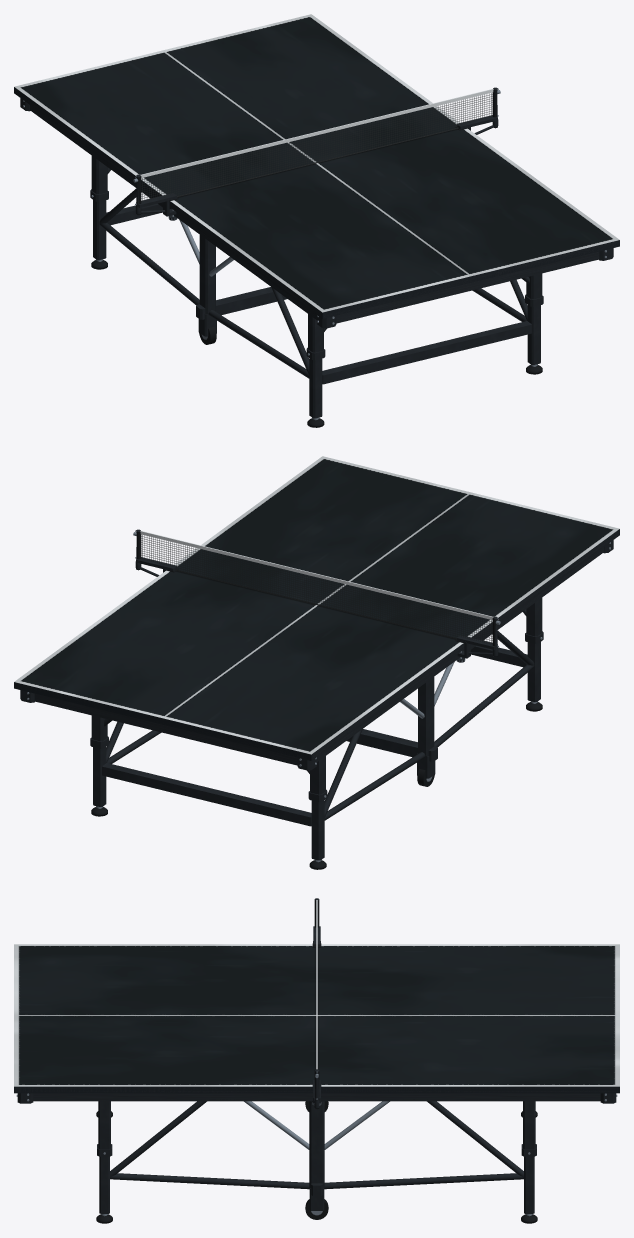
Rendered from table.glb.
The picture shows the model from 3 angles, top to bottom: view 1: azimuth 30°, elevation 25°; view 2: azimuth 150°, elevation 25°; view 3: azimuth 270°, elevation 25°; orthographic projection.
Parts seen in each view (by area): view 1: TableTop, TableFrame, NetMesh, CenterFoldingMechanism, TableTopSlab_South, NetTopTape_Front; view 2: TableTop, TableFrame, NetMesh, CenterFoldingMechanism, TableTopSlab_North, NetTopTape_Back; view 3: TableTop, TableFrame, CenterFoldingMechanism, TableTopSlab_North, TableTopSlab_South.
Part boxes in pixels (left/top/right/bottom): TableTop: left=14, top=14, right=619, bottom=318; TableFrame: left=20, top=98, right=613, bottom=427; NetMesh: left=141, top=93, right=492, bottom=202; CenterFoldingMechanism: left=99, top=219, right=526, bottom=378; TableTopSlab_South: left=170, top=201, right=619, bottom=318; NetTopTape_Front: left=141, top=89, right=493, bottom=177; TableTop: left=14, top=456, right=619, bottom=760; TableFrame: left=20, top=540, right=613, bottom=869; NetMesh: left=141, top=535, right=492, bottom=644; CenterFoldingMechanism: left=107, top=661, right=534, bottom=820; TableTopSlab_North: left=14, top=643, right=463, bottom=760; NetTopTape_Back: left=140, top=531, right=492, bottom=619; TableTop: left=14, top=944, right=619, bottom=1092; TableFrame: left=16, top=1093, right=617, bottom=1223; CenterFoldingMechanism: left=110, top=1101, right=523, bottom=1219; TableTopSlab_North: left=321, top=1086, right=619, bottom=1093; TableTopSlab_South: left=14, top=1086, right=312, bottom=1093.
Bounding box in the file's own units: 1.87 × 0.915 × 2.74.
Materials: 7 (3 with a texture image).
